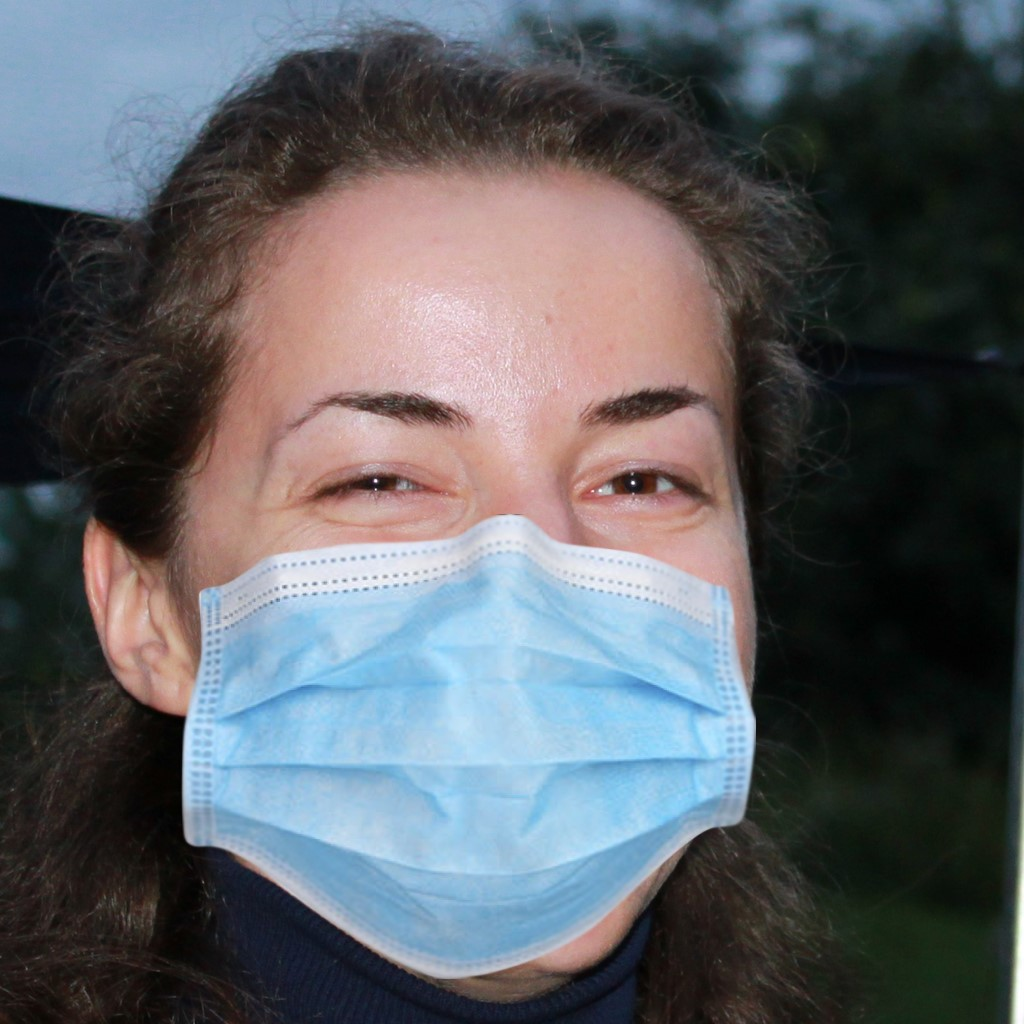con_mascara: (139, 177, 758, 950)
